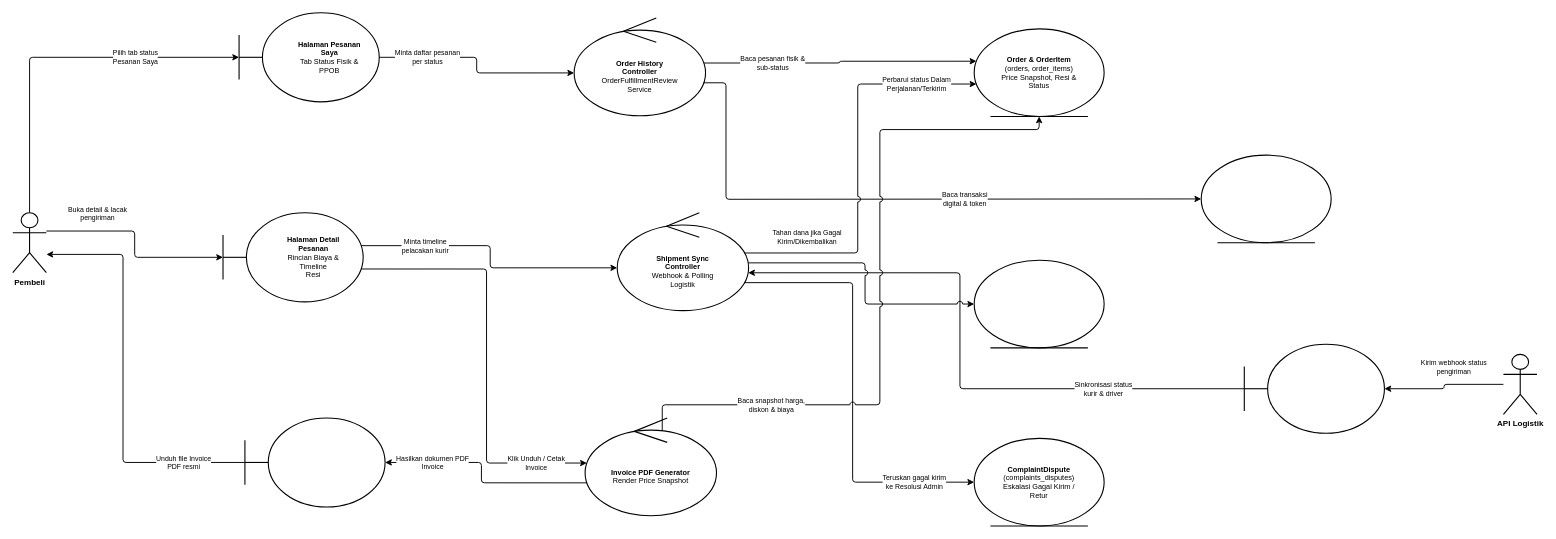
This 1556x539 diagram has some shape labels left out. Each missing label, with the centre of its shape:
"EscrowPayment (escrow_payments) Penahanan Dana Rekening Bersama" belongs at pixel 1038 303.
"Logistics Tracking Boundary Webhook & Polling Status Resi" belongs at pixel 1314 388.
"PPOBTransaction (ppob_transactions) Nomor Token & Bukti Bayar" belongs at pixel 1265 198.
"Unduhan Invoice PDF Bukti Transaksi Resmi" belongs at pixel 314 462.
